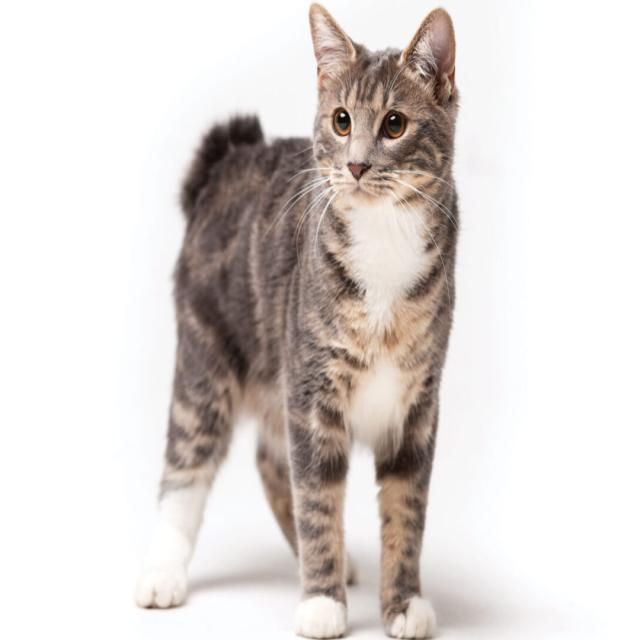American Bobtail: (130, 7, 467, 640)
